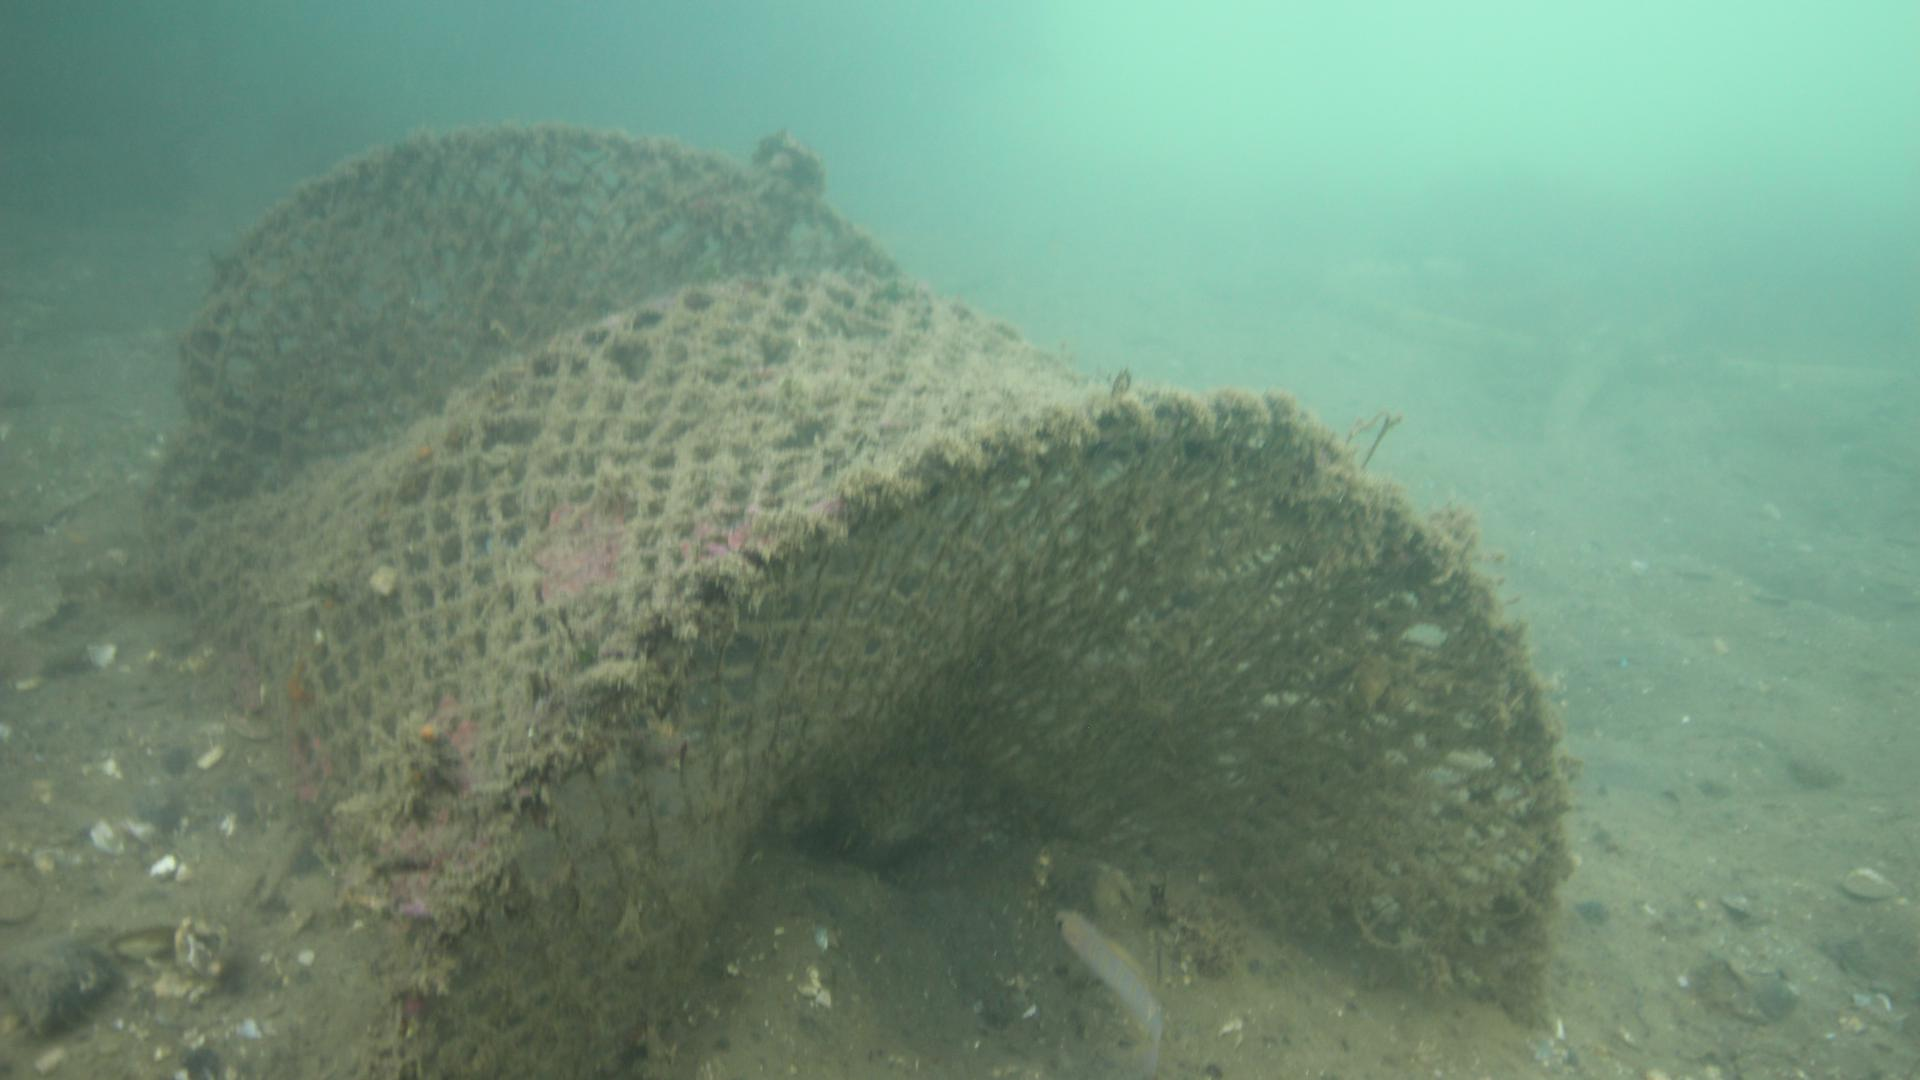spring fish trap: (137, 115, 1582, 1080)
